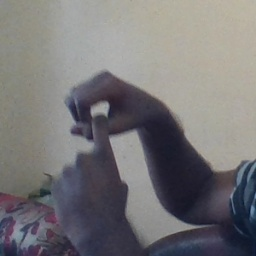Q: (42, 66, 153, 224)
